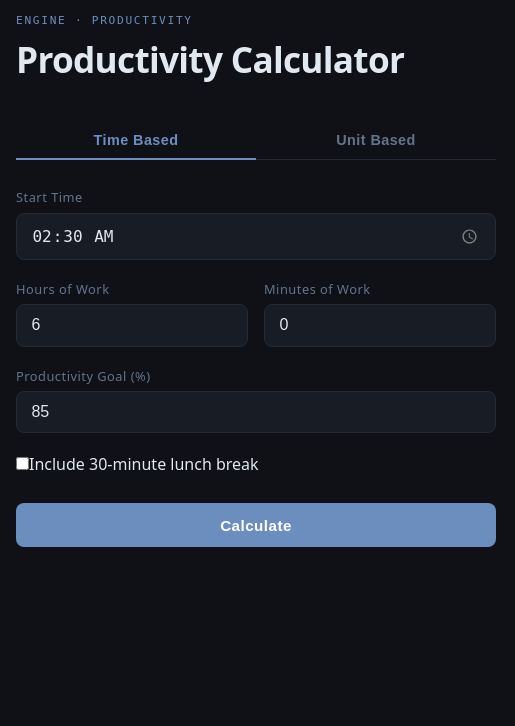
Test case: CalculatorPage › shows results after successful unit_based submit
Click the tab "Unit Based" at [376, 141], box [256,121,496,160]
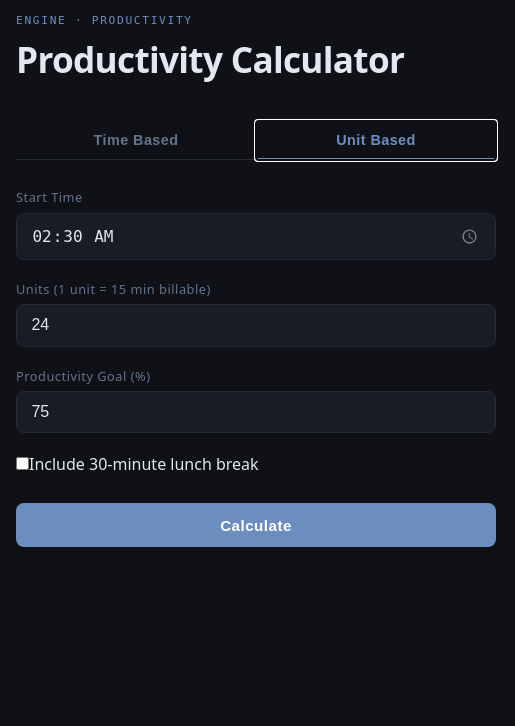
Click the button "Calculate" at [256, 525], box [16,503,496,548]
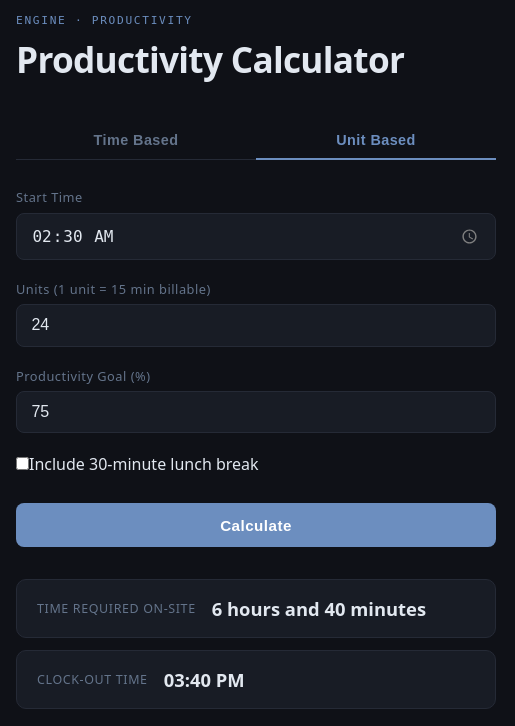
Result: the text "6 hours and 40 minutes" is shown at [212,596,426,622]
Result: the text "03:40 PM" is shown at [164,668,245,692]
